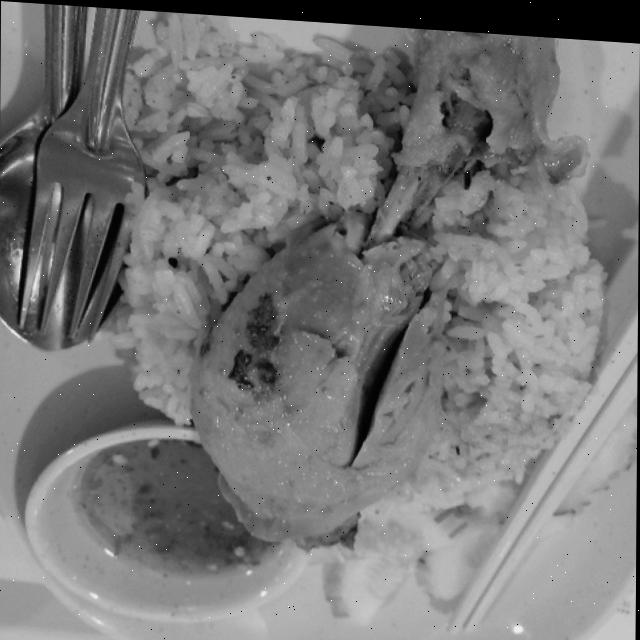米饭主食: (8, 1, 640, 640)
